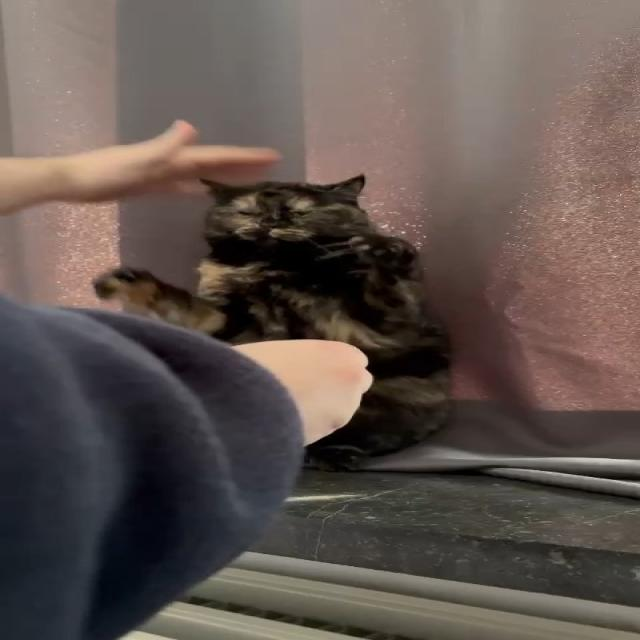authorized: (90, 172, 454, 471)
